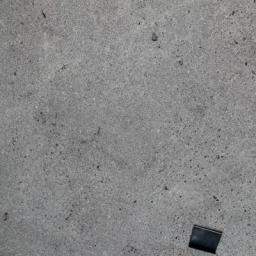FOD: (186, 221, 226, 256)
